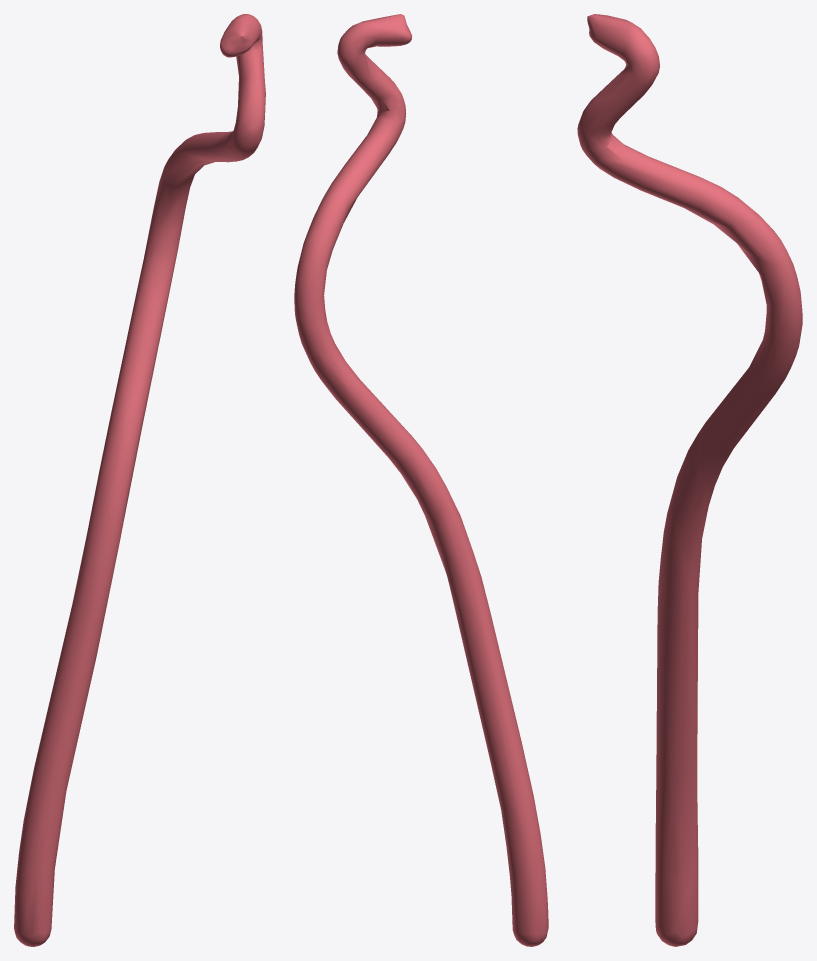
The model's file is fma75866_fj1682.glb.
The picture shows the model from 3 angles, left to right: view 1: azimuth 30°, elevation 25°; view 2: azimuth 150°, elevation 25°; view 3: azimuth 270°, elevation 25°; orthographic projection. The views are drawn at different scales.
Parts seen in each view (by area): view 1: FMA75866_FJ1682; view 2: FMA75866_FJ1682; view 3: FMA75866_FJ1682.
Part boxes in pixels (x1=…): FMA75866_FJ1682: x1=14, y1=14, x2=265, y2=946; FMA75866_FJ1682: x1=294, y1=14, x2=548, y2=946; FMA75866_FJ1682: x1=577, y1=14, x2=802, y2=946.
Size of the model in its own units: 0.0276 by 0.1032 by 0.0205.
